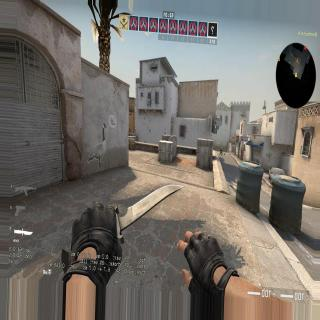CT-Body: (128, 128, 131, 136), (219, 148, 223, 154)
CT-Head: (129, 128, 130, 130), (221, 148, 222, 148)
